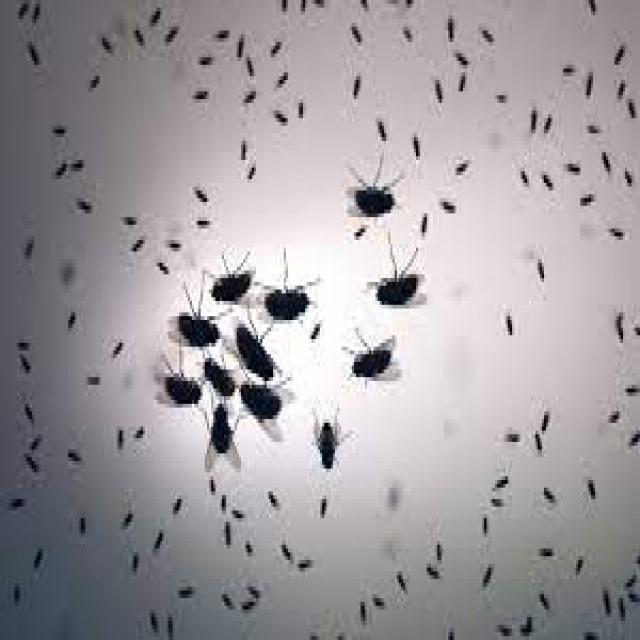fruit fly: (244, 232, 326, 336), (333, 137, 412, 236), (358, 228, 433, 332), (141, 320, 209, 427), (213, 298, 288, 392), (331, 316, 405, 408), (160, 263, 226, 362), (194, 236, 267, 324), (194, 381, 248, 488), (297, 392, 354, 477), (258, 472, 284, 518), (344, 210, 371, 252), (288, 541, 316, 579), (299, 304, 324, 346), (186, 168, 211, 210), (171, 568, 198, 606), (403, 118, 425, 164), (578, 53, 600, 99), (113, 495, 137, 537), (593, 137, 617, 179), (420, 548, 444, 590), (472, 12, 499, 49), (271, 530, 296, 568), (104, 324, 126, 366), (580, 461, 600, 507), (309, 484, 333, 522), (145, 518, 169, 556), (267, 95, 290, 134), (17, 442, 43, 476), (60, 434, 85, 469), (15, 225, 38, 263), (448, 145, 471, 183), (476, 549, 495, 594), (62, 141, 87, 175), (228, 23, 248, 65), (232, 126, 252, 168), (484, 465, 512, 495), (390, 556, 410, 598), (235, 76, 262, 107), (164, 484, 186, 522), (21, 26, 43, 64), (262, 26, 284, 64), (533, 530, 555, 568), (596, 575, 614, 621), (21, 423, 45, 457), (70, 183, 94, 217), (218, 507, 236, 552), (522, 92, 540, 137), (224, 495, 250, 526), (497, 419, 523, 450), (47, 148, 70, 183), (158, 15, 181, 50), (269, 57, 292, 92), (26, 534, 47, 572), (412, 198, 431, 240), (450, 57, 469, 99), (439, 4, 458, 46), (352, 586, 371, 628), (79, 358, 102, 392), (448, 38, 471, 72), (610, 301, 627, 347), (574, 179, 597, 213), (559, 145, 582, 179), (192, 42, 218, 72), (427, 65, 446, 106), (209, 12, 230, 49), (616, 556, 638, 591), (616, 156, 636, 194), (536, 99, 554, 141), (568, 541, 586, 583), (233, 587, 258, 617), (215, 579, 237, 613), (535, 160, 557, 194), (535, 476, 559, 507), (17, 392, 38, 427), (395, 11, 416, 46), (604, 213, 625, 248), (606, 30, 627, 65), (109, 416, 128, 454), (124, 541, 143, 579), (372, 106, 391, 144), (529, 248, 548, 286), (4, 484, 28, 514), (433, 187, 457, 217), (13, 343, 34, 377), (237, 46, 258, 80), (621, 80, 638, 122), (45, 110, 68, 141), (188, 76, 211, 107), (188, 202, 211, 232), (555, 50, 578, 80), (72, 503, 90, 541), (6, 568, 24, 606), (534, 400, 552, 438), (612, 586, 630, 624), (482, 484, 508, 510), (128, 15, 147, 50), (142, 0, 164, 30), (602, 396, 623, 427), (143, 598, 162, 632), (126, 225, 145, 259), (96, 23, 115, 57), (290, 84, 307, 122), (499, 301, 516, 339), (527, 423, 546, 457), (429, 530, 446, 568), (367, 583, 388, 613), (128, 412, 145, 449), (241, 572, 265, 598), (489, 80, 512, 107), (582, 110, 602, 141), (346, 65, 362, 103), (11, 328, 34, 354), (491, 610, 514, 636), (514, 156, 531, 191), (241, 152, 260, 183), (160, 606, 179, 636), (62, 297, 77, 335), (619, 370, 638, 400), (202, 465, 218, 499), (534, 579, 550, 613), (152, 248, 170, 278), (84, 61, 102, 91), (576, 617, 604, 636), (239, 530, 256, 560), (610, 69, 627, 99), (346, 15, 362, 46), (162, 225, 181, 251), (623, 419, 638, 450), (28, 0, 45, 27), (13, 0, 30, 19), (216, 484, 228, 510), (580, 0, 600, 15), (476, 506, 490, 526), (294, 0, 310, 15), (275, 0, 290, 11)
